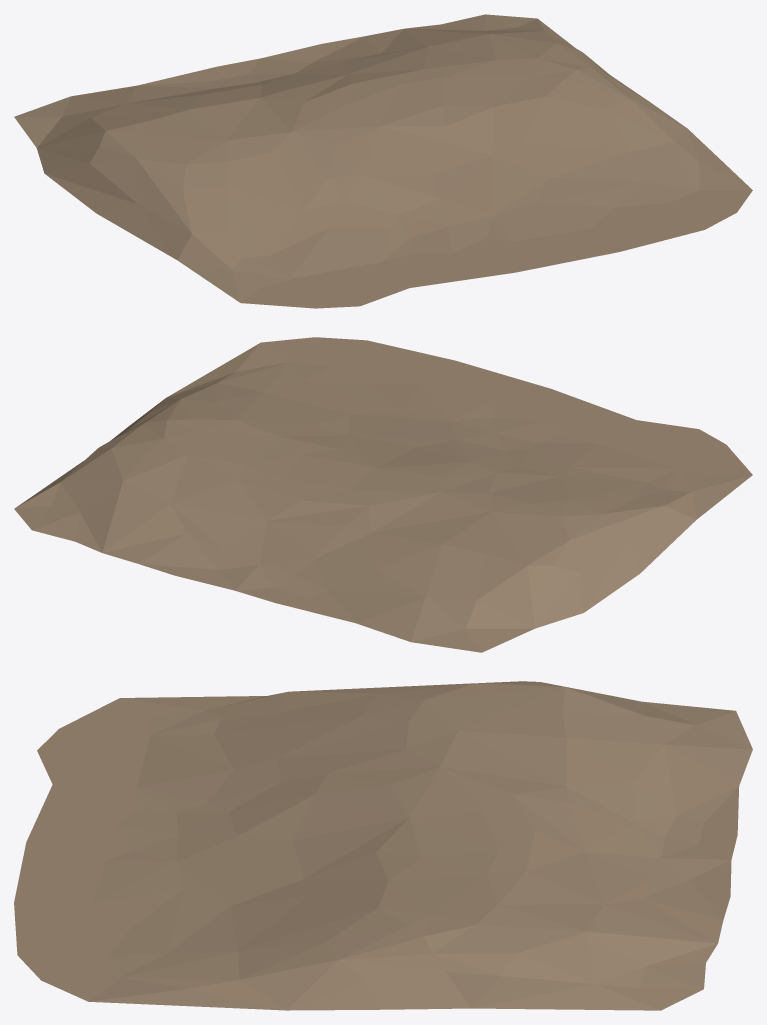
File: SM_Env_Ground_Hill_Slope_01.fbx
3 views of the same model, one above another, from view 1: azimuth 30°, elevation 25°; view 2: azimuth 150°, elevation 25°; view 3: azimuth 270°, elevation 25° (orthographic). The views are drawn at different scales.
Parts seen in each view (by area): view 1: SM_Env_Ground_Hill_Slope_01; view 2: SM_Env_Ground_Hill_Slope_01; view 3: SM_Env_Ground_Hill_Slope_01.
Part boxes in pixels (x1,y1,x2,y2): SM_Env_Ground_Hill_Slope_01: (14,14,752,308); SM_Env_Ground_Hill_Slope_01: (14,337,752,652); SM_Env_Ground_Hill_Slope_01: (14,681,752,1010).
Size of the model in its own units: 1663 by 99.41 by 1610.
